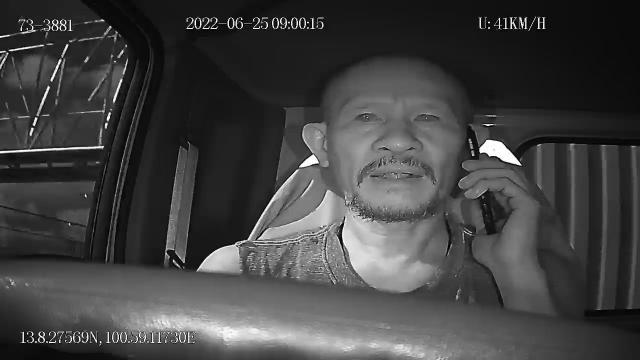PhoneUse: (465, 125, 497, 235)
SafeDriving: (347, 100, 389, 131), (405, 101, 448, 131)
